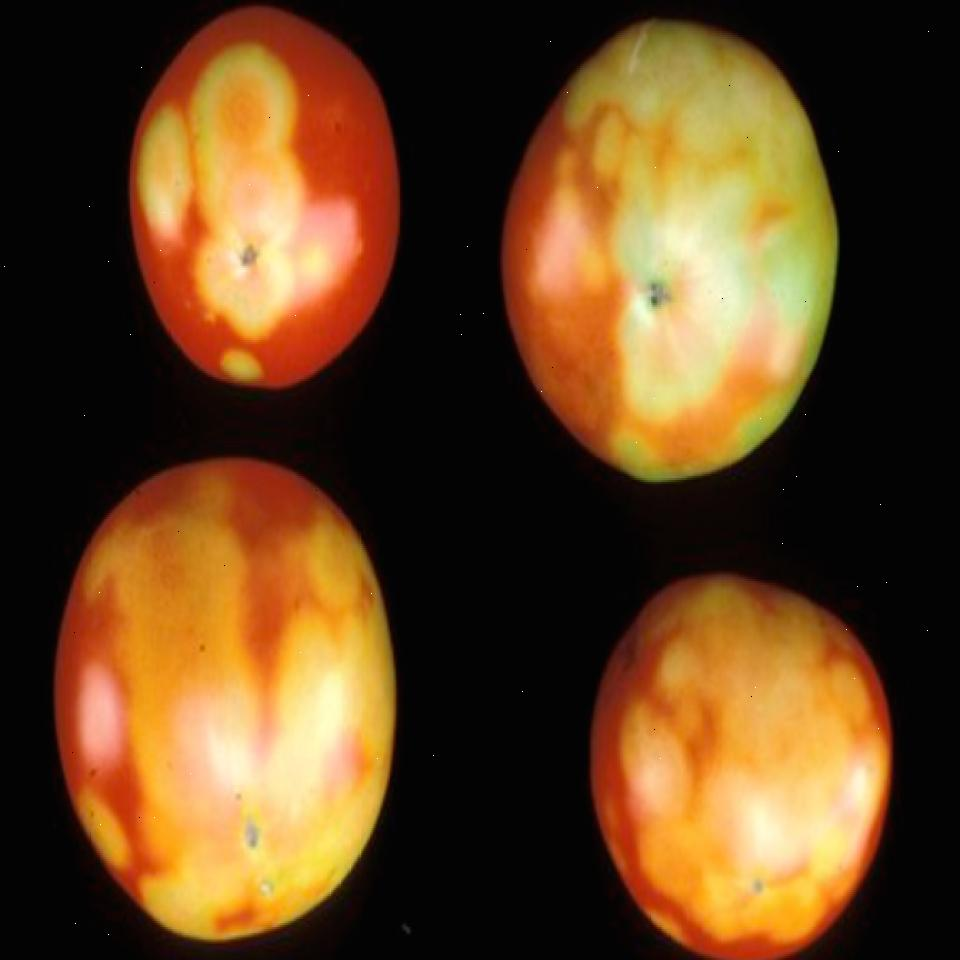Spotted wilt Virus: (54, 459, 396, 941), (501, 21, 839, 484), (594, 577, 891, 960), (134, 8, 400, 387)
